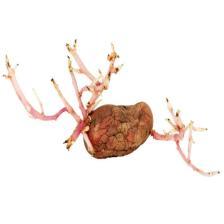Sprouted potato: (1, 35, 221, 182)
